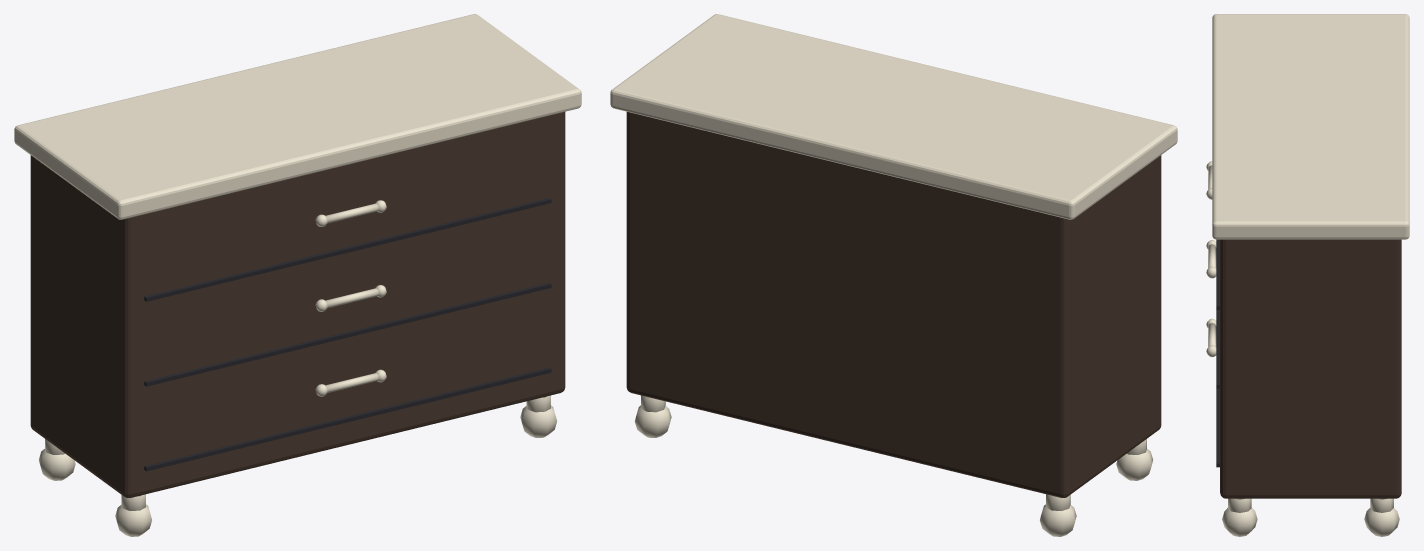
File: chest_bone_dresser.glb
3 renders of one model, left to right at view 1: azimuth 30°, elevation 25°; view 2: azimuth 150°, elevation 25°; view 3: azimuth 270°, elevation 25°, orthographic. The views are drawn at different scales.
Parts seen in each view (by area): view 1: GD_chest_bone_dresser__m0, GD_chest_bone_dresser__m1, GD_chest_bone_dresser__m2; view 2: GD_chest_bone_dresser__m0, GD_chest_bone_dresser__m1; view 3: GD_chest_bone_dresser__m1, GD_chest_bone_dresser__m0, GD_chest_bone_dresser__m2.
Part boxes in pixels (x1,y1,x2,y2): GD_chest_bone_dresser__m0: (30, 112, 565, 497); GD_chest_bone_dresser__m1: (14, 14, 581, 536); GD_chest_bone_dresser__m2: (144, 197, 551, 471); GD_chest_bone_dresser__m0: (626, 112, 1161, 497); GD_chest_bone_dresser__m1: (610, 14, 1177, 536); GD_chest_bone_dresser__m1: (1206, 14, 1409, 536); GD_chest_bone_dresser__m0: (1220, 239, 1401, 498); GD_chest_bone_dresser__m2: (1216, 239, 1219, 467).
Bounding box in the file's own units: 1.26 × 0.91 × 0.515.
